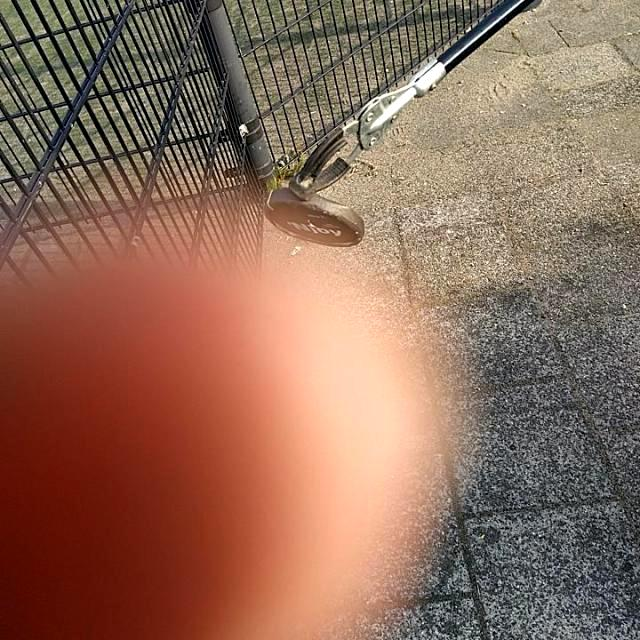Paper: (260, 184, 368, 252)
